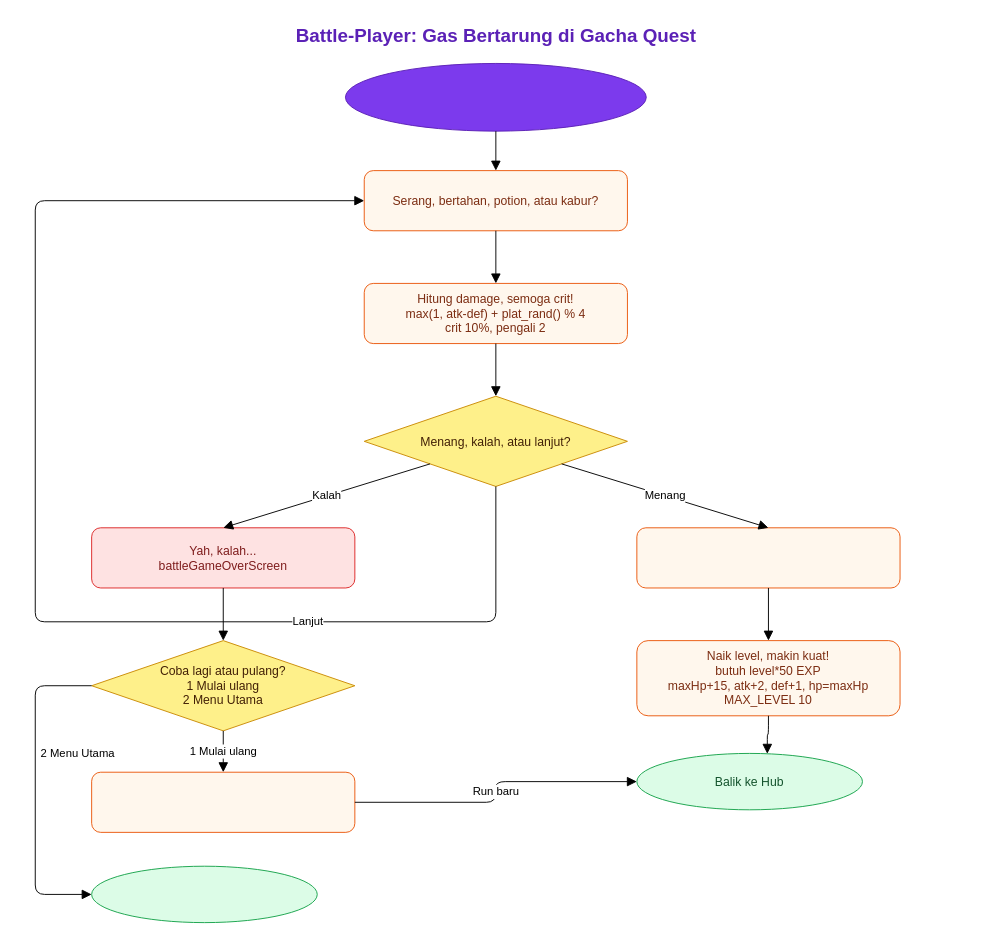
The diagram is 991 pixels wide and 939 high, and some of its shapes have lost their labels. Each missing label, with the centre of its shape:
"Gas bertarung! startBattle / startBattleAgainst resumeBattle" belongs at point 495,97.
"Menu Utama" belongs at point 204,894.
"Reset, nama dan seed tetap! resetPlayer" belongs at point 223,801.
"Yeay, dapat hadiah! EXP dan gold, addExp" belongs at point 768,557.
